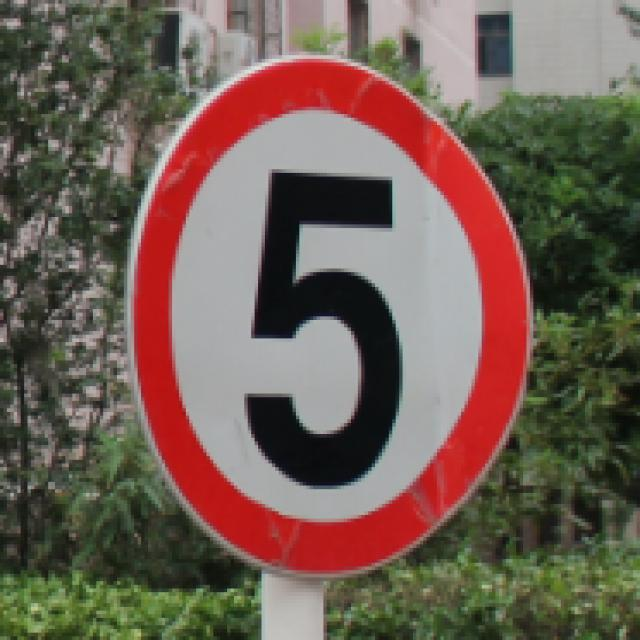Speed: (119, 37, 538, 593)
